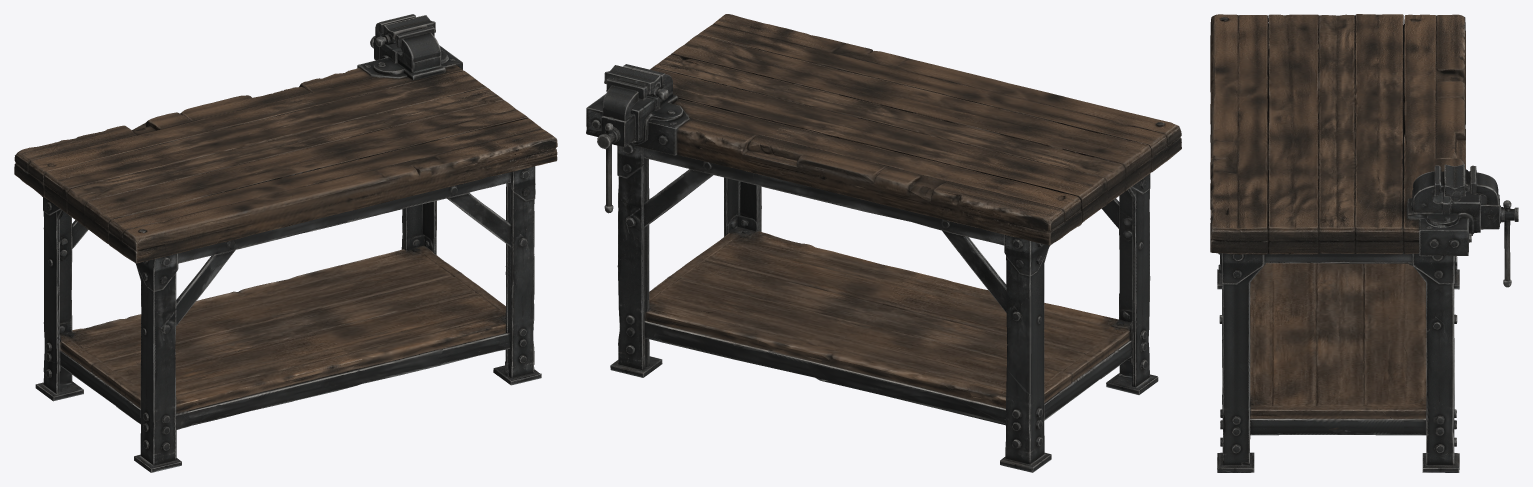
Rendered from workbench.glb.
The picture shows the model from 3 angles, left to right: view 1: azimuth 30°, elevation 25°; view 2: azimuth 150°, elevation 25°; view 3: azimuth 270°, elevation 25°; orthographic projection. The views are drawn at different scales.
Parts seen in each view (by area): view 1: output_unwrapped; view 2: output_unwrapped; view 3: output_unwrapped.
Part boxes in pixels (x1,y1,x2,y2): output_unwrapped: [14, 14, 557, 472]; output_unwrapped: [586, 14, 1181, 472]; output_unwrapped: [1210, 14, 1518, 472].
Size of the model in its own units: 1.9 by 1.17 by 1.13.
1 material, 1 textured.
